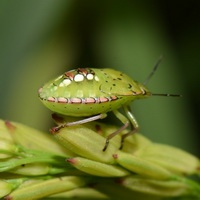insect: (38, 56, 177, 150)
